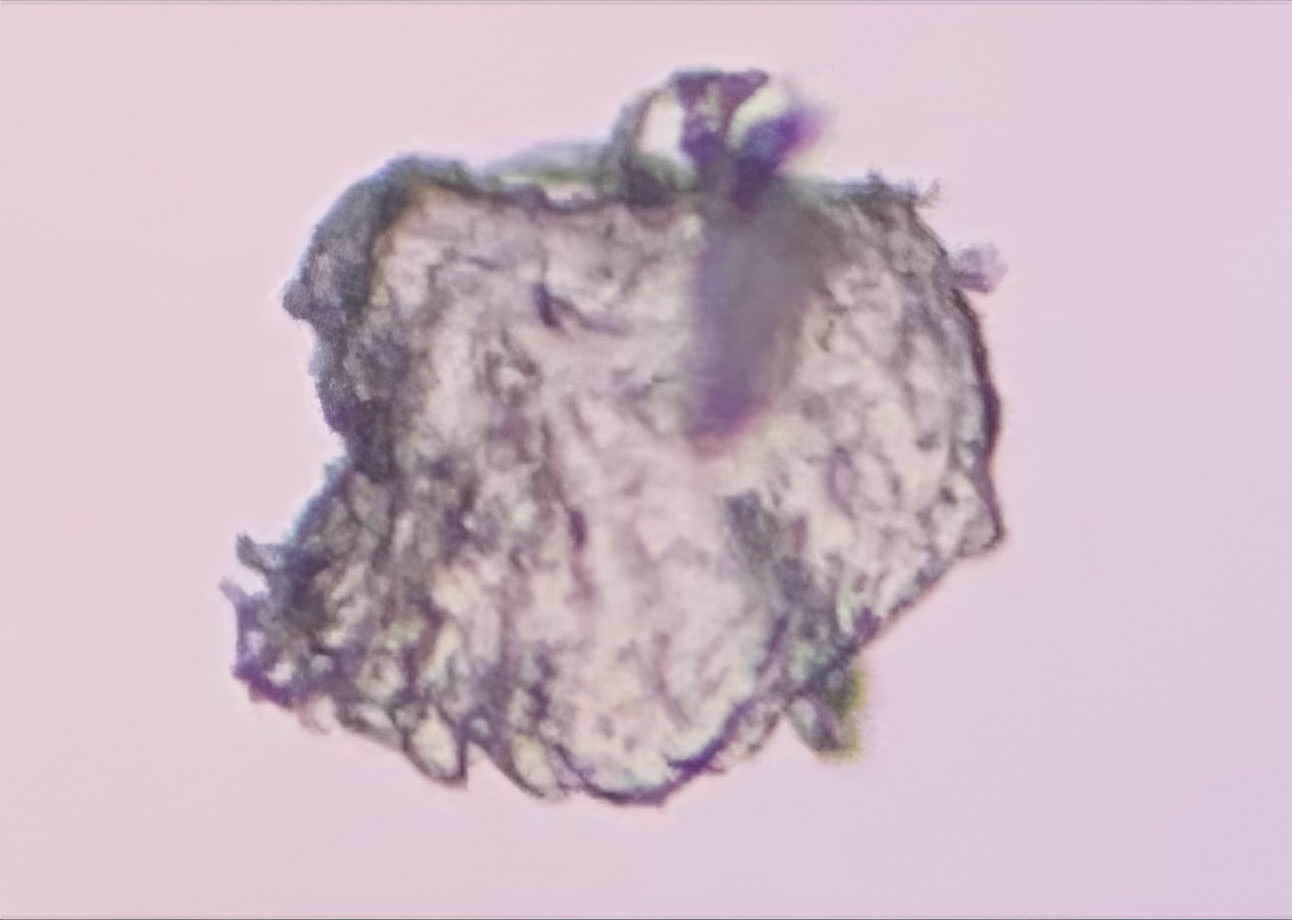microplastic: (219, 69, 1007, 811)
